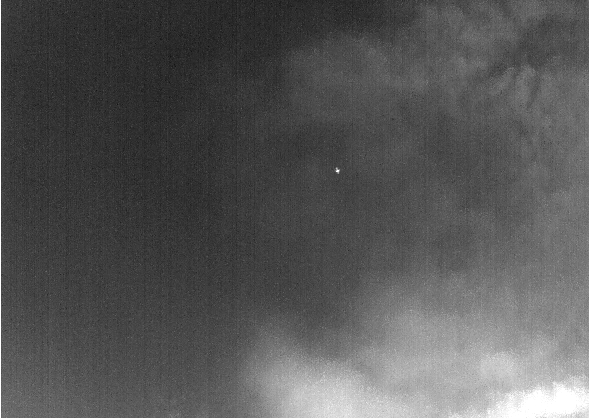dim target: (335, 167, 341, 175)
